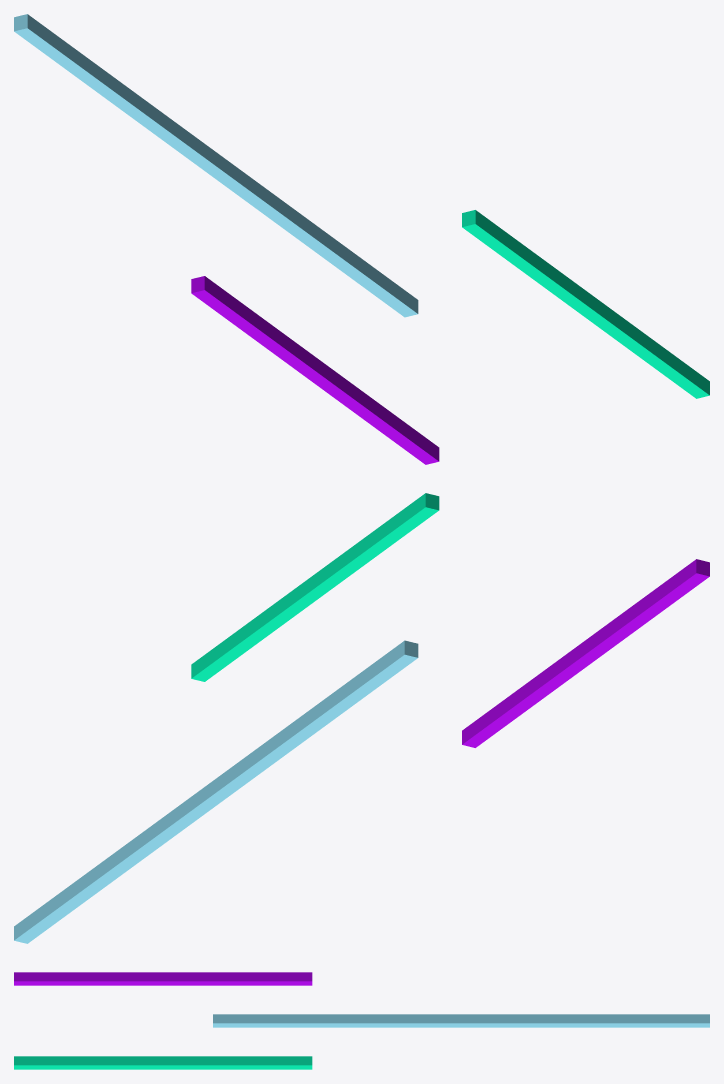
Rendered from light_path_deepspec.glb.
The picture shows the model from 3 angles, top to bottom: view 1: azimuth 30°, elevation 25°; view 2: azimuth 150°, elevation 25°; view 3: azimuth 270°, elevation 25°; orthographic projection. The views are drawn at different scales.
Visible parts, largest first — view 1: beam_fiber_to_prisms, beam_band_uv, beam_band_vis; view 2: beam_fiber_to_prisms, beam_band_vis, beam_band_uv; view 3: beam_fiber_to_prisms, beam_band_uv, beam_band_vis.
Boxes of the visible parts, x1,y1,x2,y2 form: beam_fiber_to_prisms: (14,14,418,317); beam_band_uv: (191,276,439,464); beam_band_vis: (462,210,709,398); beam_fiber_to_prisms: (14,640,418,943); beam_band_vis: (191,493,439,681); beam_band_uv: (462,559,709,747); beam_fiber_to_prisms: (213,1014,709,1027); beam_band_uv: (14,972,312,985); beam_band_vis: (14,1056,312,1069).
Bounding box in the file's own units: 0.105 × 0.005 × 0.35.
